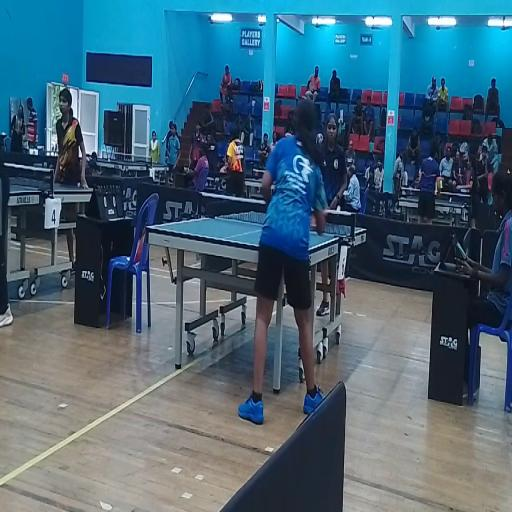ball: (336, 205, 341, 215)
